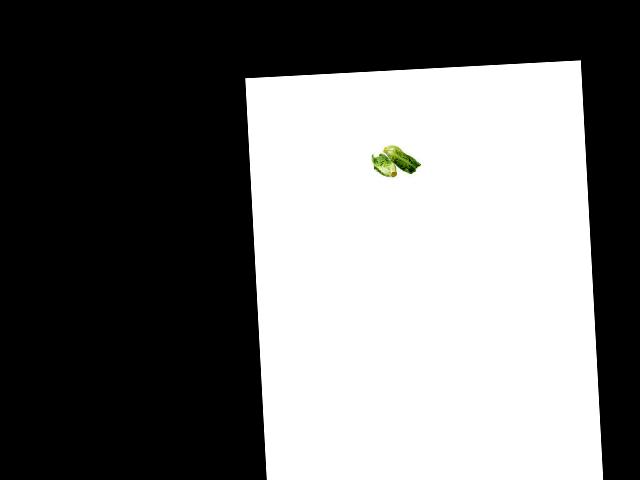lettuce: (369, 143, 419, 184)
